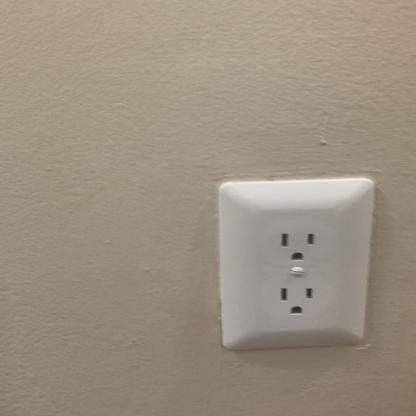OUTLET: (216, 178, 370, 352)
